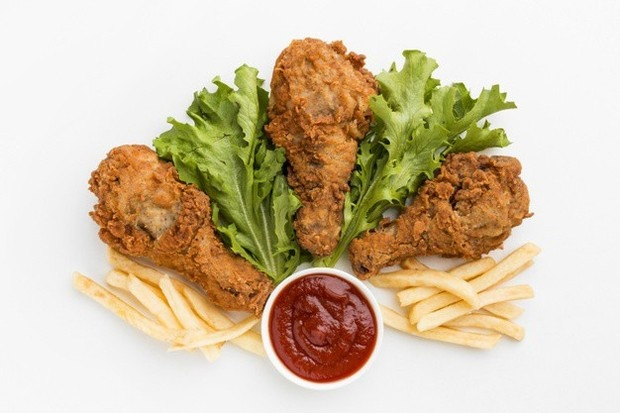ayam_goreng: (77, 143, 285, 314), (260, 25, 375, 260), (349, 147, 541, 279)
